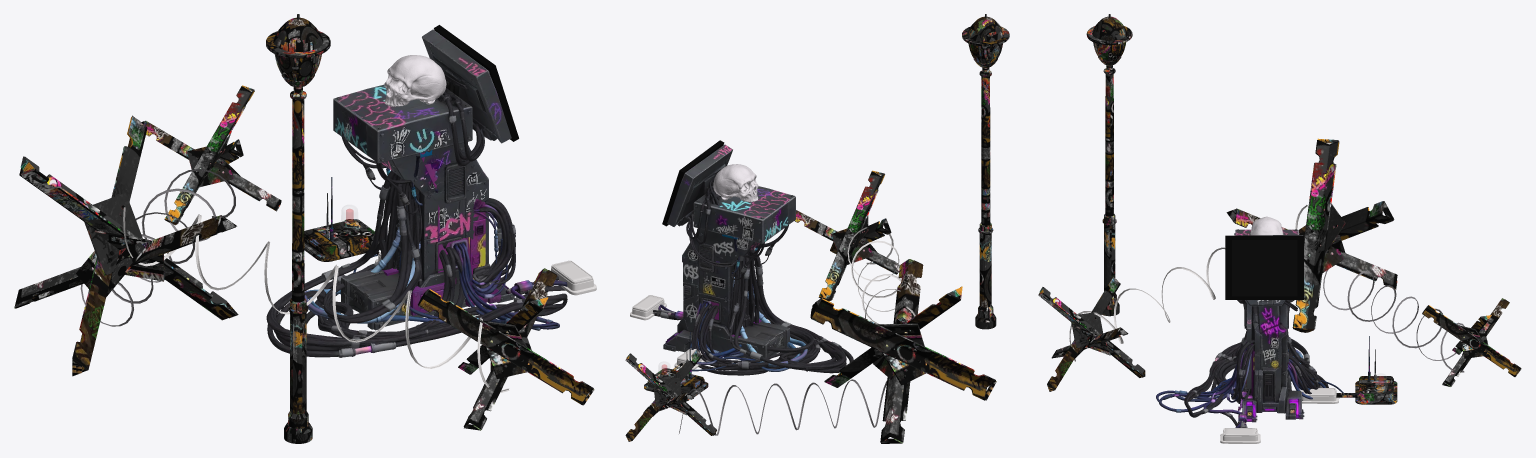
Rendered from maqui-transformed.glb.
3 views of the same model, side by side, from view 1: azimuth 30°, elevation 25°; view 2: azimuth 150°, elevation 25°; view 3: azimuth 270°, elevation 25° (orthographic). The views are drawn at different scales.
Parts seen in each view (by area): view 1: lamp, geometry_0, console, rsg_military_barbed_wire_01, 2, rsg_military_barbed_wire_01.001, screen; view 2: lamp, geometry_0, rsg_military_barbed_wire_01, console, 2, rsg_military_barbed_wire_01.001, screen; view 3: lamp, geometry_0, screen, console, rsg_military_barbed_wire_01, rsg_military_barbed_wire_01.001, 2.
Part boxes in pixels (x1,y1,x2,y2): lamp: (14,14,594,443); geometry_0: (266,29,567,357); console: (304,150,567,330); rsg_military_barbed_wire_01: (123,207,596,392); 2: (384,55,446,106); rsg_military_barbed_wire_01.001: (80,169,235,326); screen: (434,25,518,141); lamp: (625,14,1009,443); geometry_0: (652,144,853,375); rsg_military_barbed_wire_01: (630,227,915,369); console: (658,234,807,371); 2: (713,164,758,202); rsg_military_barbed_wire_01.001: (679,379,887,435); screen: (662,140,724,226); lamp: (1038,14,1521,404); geometry_0: (1184,229,1328,427); screen: (1225,235,1303,299); console: (1156,342,1343,427); rsg_military_barbed_wire_01: (1069,205,1339,443); rsg_military_barbed_wire_01.001: (1323,269,1464,372); 2: (1250,216,1283,235).
Size of the model in its own units: 1.79 by 1.47 by 2.12.
Materials: 11 (10 with a texture image).
